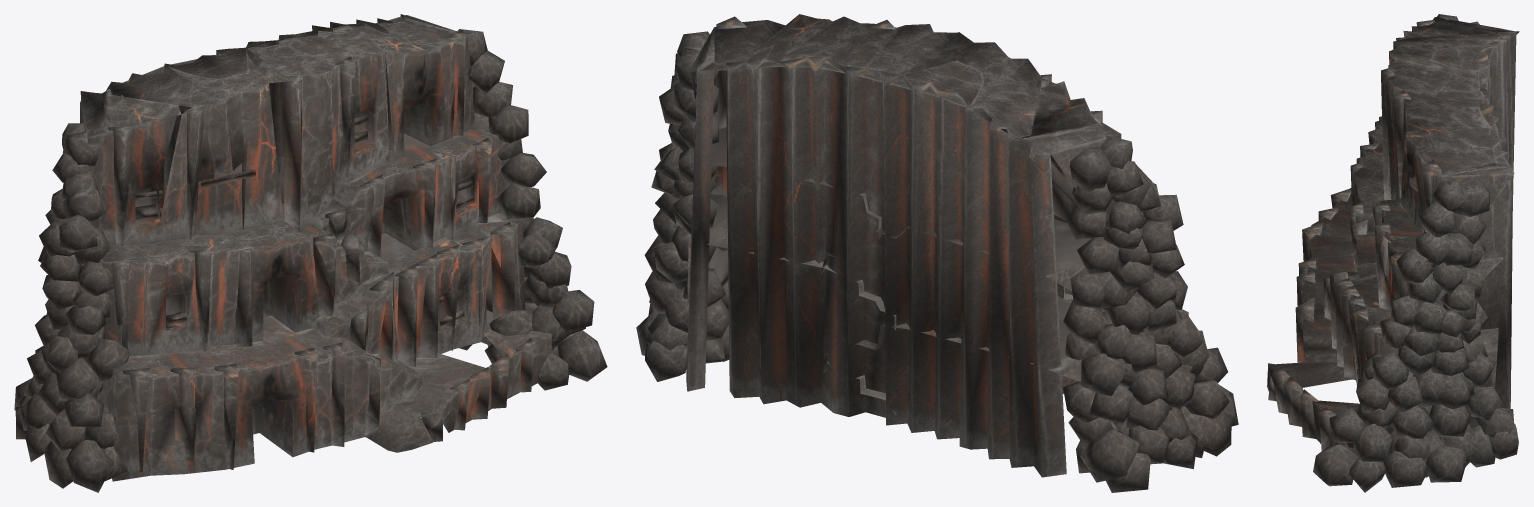
The model's file is goblin-basalt-cliff-facade-wide.glb.
The picture shows the model from 3 angles, left to right: view 1: azimuth 30°, elevation 25°; view 2: azimuth 150°, elevation 25°; view 3: azimuth 270°, elevation 25°; orthographic projection. The views are drawn at different scales.
Size of the model in its own units: 1 by 0.625 by 0.4636.
Materials: 1 (1 with a texture image).
